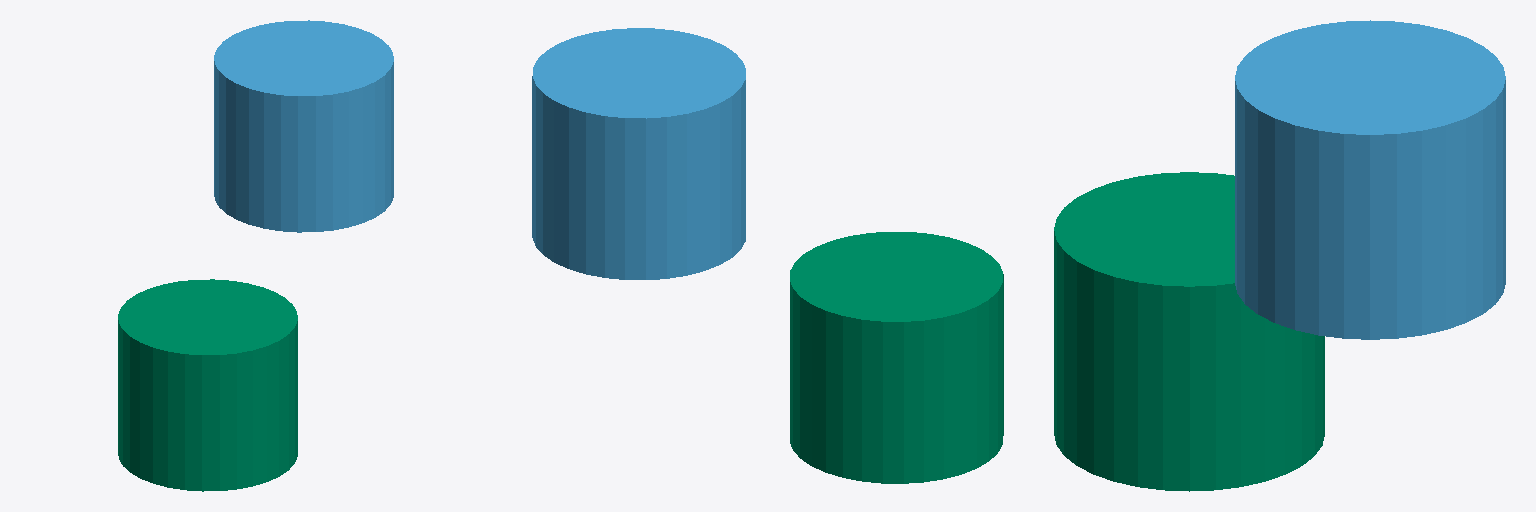
The robot description file, URDF, robot "raspimouse":
<robot name="raspimouse">
  <link name="base_link"/>

  <joint name="lidar_joint" type="fixed">
    <origin xyz="0.025 0 0.12" rpy="0 0 0"/>
    <axis xyz="0 0 1"/>
    <parent link="base_link"/>
    <child link="lidar_link"/>
  </joint>

  <link name="lidar_link">
    <visual>
      <origin xyz="0 0 0" />
      <geometry>
        <cylinder length="0.05" radius="0.03" />
      </geometry>
      <material name="gray" />
    </visual>
  </link>

  <joint name="imu_joint" type="fixed">
    <origin xyz="-0.035 -0.04 0.055" rpy="0 0 0"/>
    <axis xyz="0 0 1"/>
    <parent link="base_link"/>
    <child link="imu"/>
  </joint>

  <link name="imu">
    <visual>
      <origin xyz="0 0 0" />
      <geometry>
        <cylinder length="0.05" radius="0.03" />
      </geometry>
      <material name="gray" />
    </visual>
  </link>


  <!-- <joint name="base_joint" type="fixed">
    <origin xyz="0 0 0.00185"/>
    <parent link="base_footprint"/>
    <child link="base_body"/>
  </joint>

  <link name="base_body">
    <visual>
      <geometry>
        <mesh filename="package://raspimouse_description/meshes/dae/base/RasPiMouse_base.dae"/>
      </geometry>
    </visual>
  </link> -->


<!-- 
  <joint name="left-wheel_joint" type="continuous">
    <origin xyz="0 0.0425 0.02215" rpy="-1.57 0 0"/>
    <axis xyz="0 0 1"/>
    <parent link="base_body"/>
    <child link="left-wheel"/>
  </joint>

  <link name="left-wheel">
    <visual>
      <geometry>
        <mesh filename="package://raspimouse_description/meshes/dae/wheel/RasPiMouse_wheel.dae"/>
      </geometry>
    </visual>
  </link>

  <joint name="right-wheel_joint" type="continuous">
    <origin xyz="0 -0.0425 0.02215" rpy="1.57 0 0"/>
    <axis xyz="0 0 1"/>
    <parent link="base_body"/>
    <child link="right-wheel"/>
  </joint>

  <link name="right-wheel">
    <visual>
      <geometry>
        <mesh filename="package://raspimouse_description/meshes/dae/wheel/RasPiMouse_wheel.dae"/>
      </geometry>
    </visual>
  </link> -->
</robot>

--- What the picture shows (computed from the rendered views, not written in the file) ---
3 views of the same robot in one strip: view 1: azimuth 30°, elevation 25°; view 2: azimuth 150°, elevation 25°; view 3: azimuth 270°, elevation 25° (orthographic).
Model raspimouse with 3 links and 2 joints (2 fixed), rooted at base_link, posed every joint at zero.
Links seen in each view (by area): view 1: lidar_link, imu; view 2: lidar_link, imu; view 3: lidar_link, imu.
Link boxes in pixels (x1,y1,x2,y2): lidar_link: [214, 20, 393, 232]; imu: [118, 279, 297, 491]; lidar_link: [532, 28, 745, 279]; imu: [790, 232, 1003, 483]; lidar_link: [1235, 20, 1505, 339]; imu: [1054, 172, 1324, 491].
Bounding box of the posed robot: 0.12 × 0.1 × 0.115 m (x, y, z).
Geometry: primitives only (box / cylinder / sphere), no mesh files.